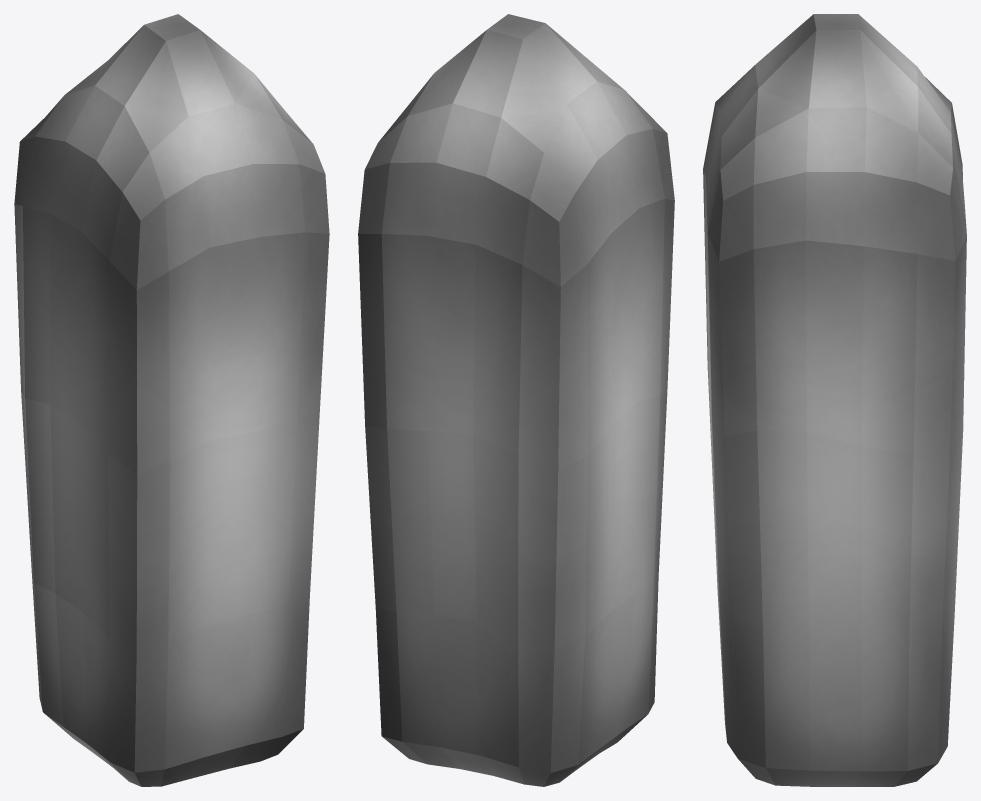
The model's file is post.fbx.
3 renders of one model, left to right at view 1: azimuth 30°, elevation 25°; view 2: azimuth 150°, elevation 25°; view 3: azimuth 270°, elevation 25°, orthographic.
Visible parts, largest first — view 1: post; view 2: post; view 3: post.
Part boxes in pixels (box(x1,y1,x2,y2)): post: box(14, 14, 329, 786); post: box(358, 14, 674, 786); post: box(703, 14, 966, 786).
Bounding box in the file's own units: 30.46 × 95.52 × 30.96.
